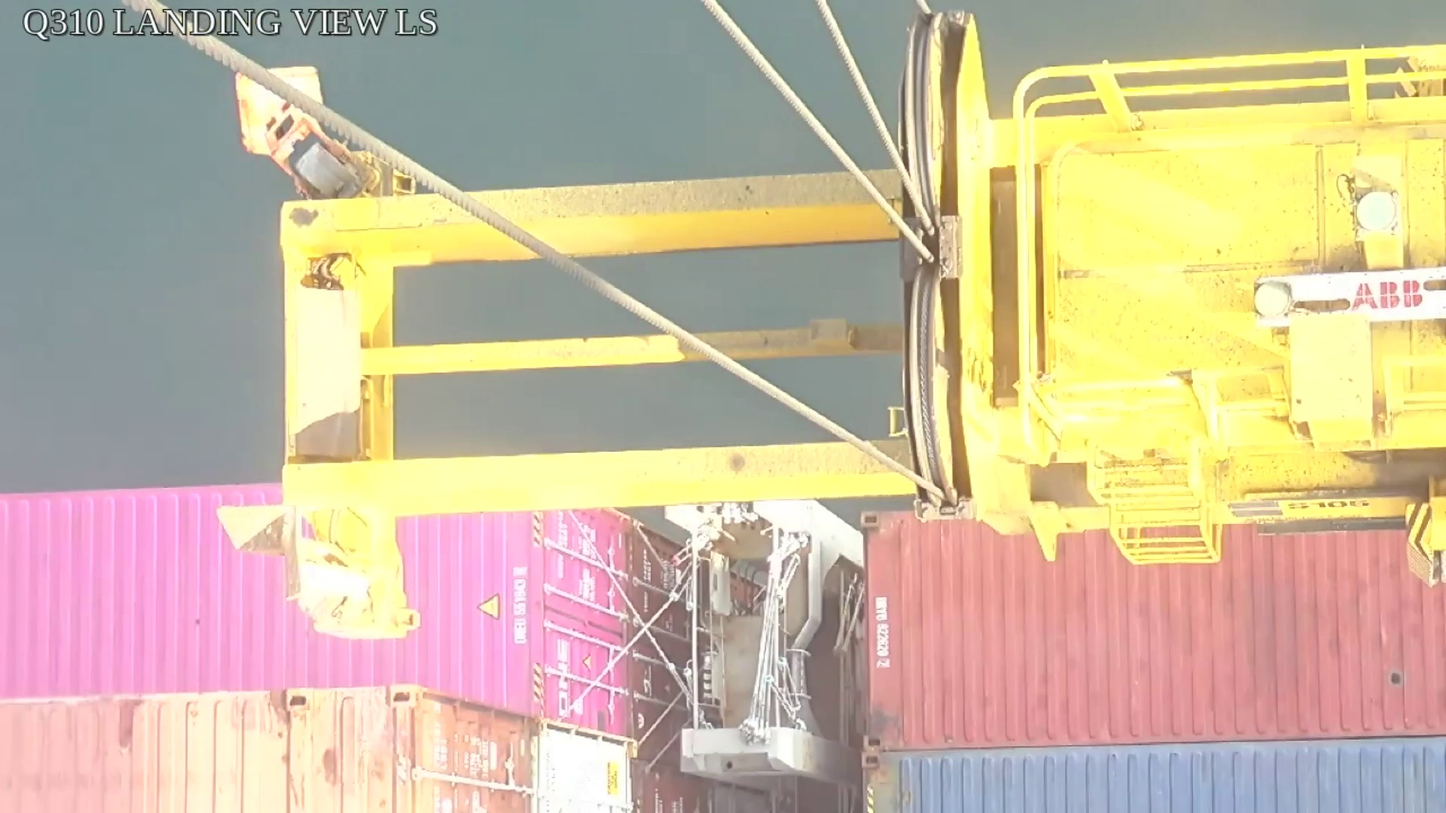aa: (897, 8, 998, 521)
